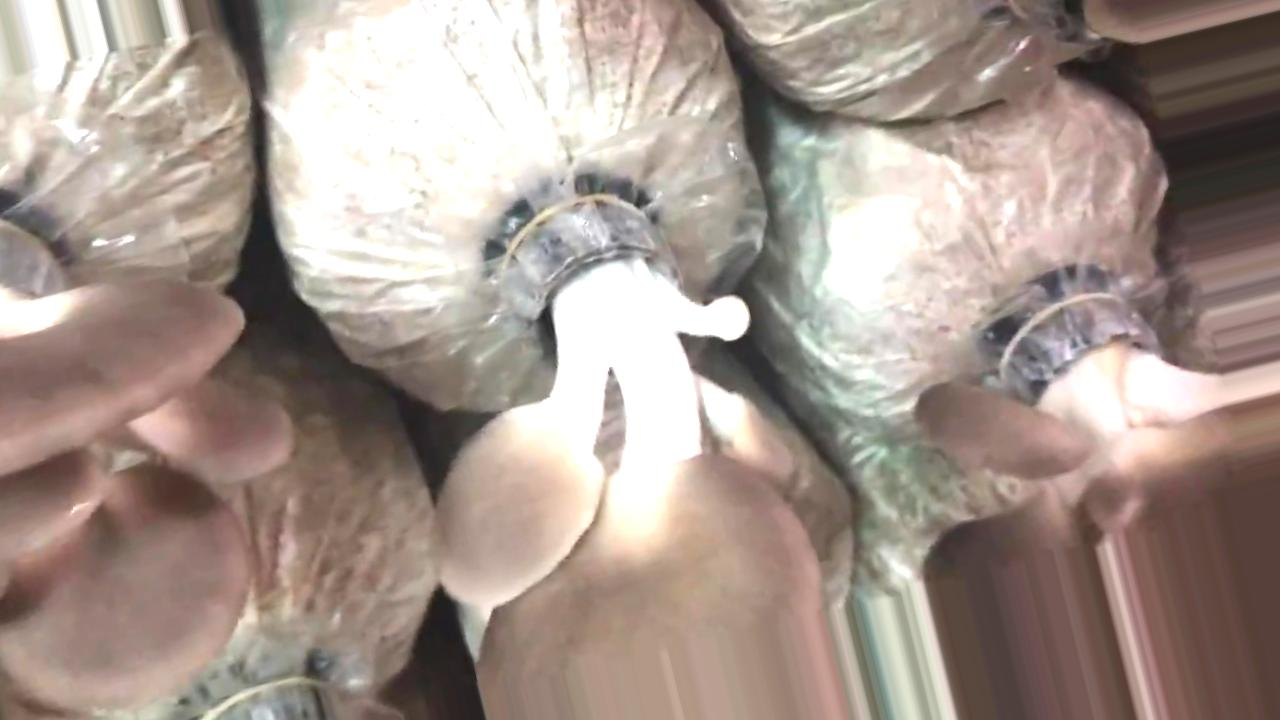nam: (437, 192, 845, 720), (909, 298, 1279, 720), (1, 205, 293, 719)
